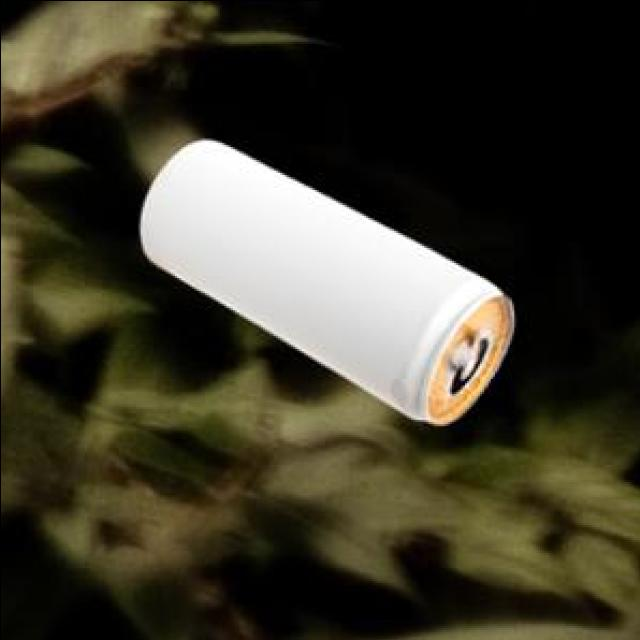logam: (136, 139, 510, 420)
